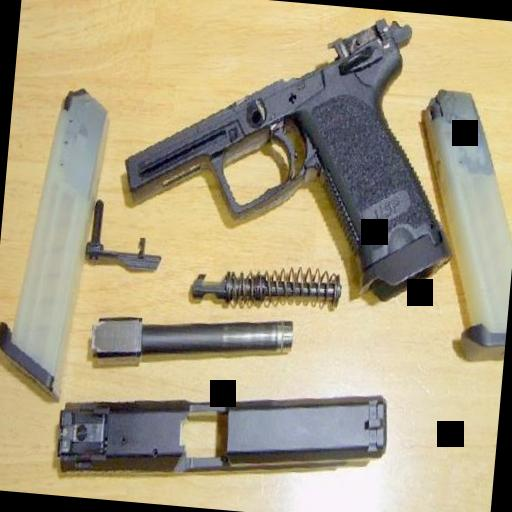Handgun: (114, 0, 478, 313)
